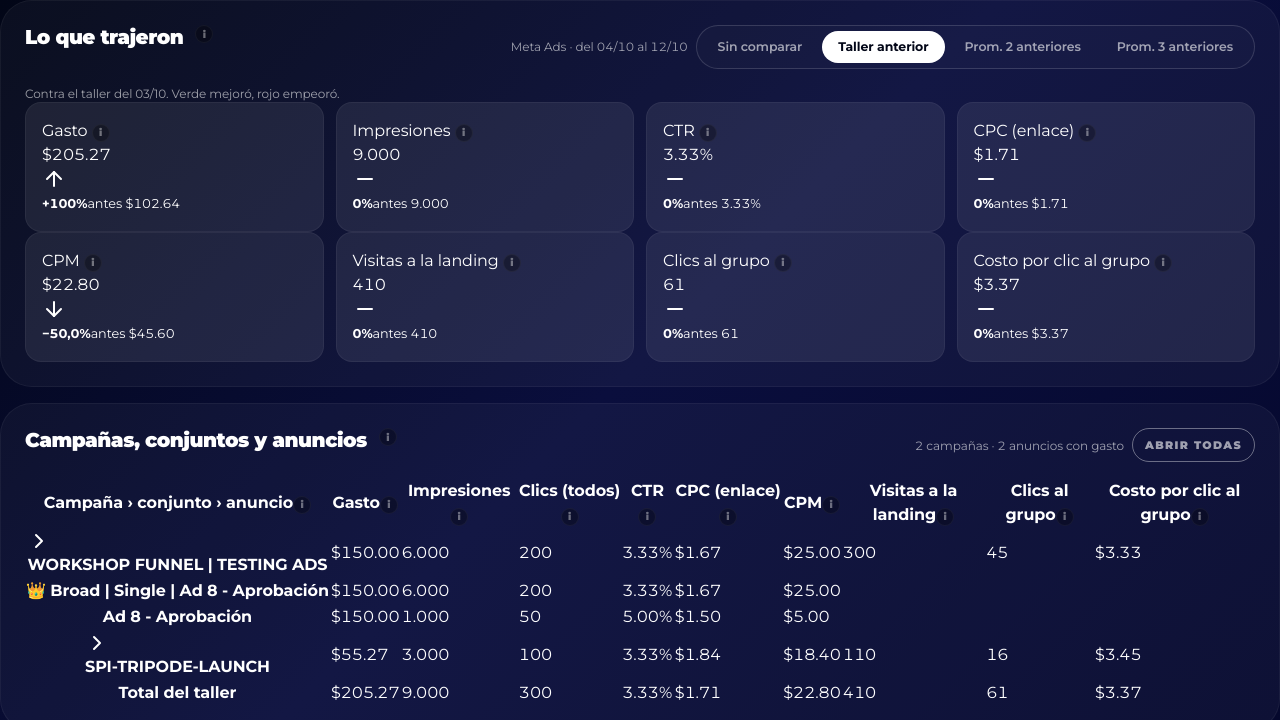
Test: Workshop › Talleres › Anuncios del taller › comparación contra los talleres anteriores › un costo que subió es para peor y lo que se queda igual no se pinta
expect the text "Ad 8 - Aprobación" is shown: met, box x1=103 y1=607 x2=252 y2=626
Step 1. Click the tab "Prom. 2 anteriores" → (1023, 47), box x1=948 y1=31 x2=1097 y2=63
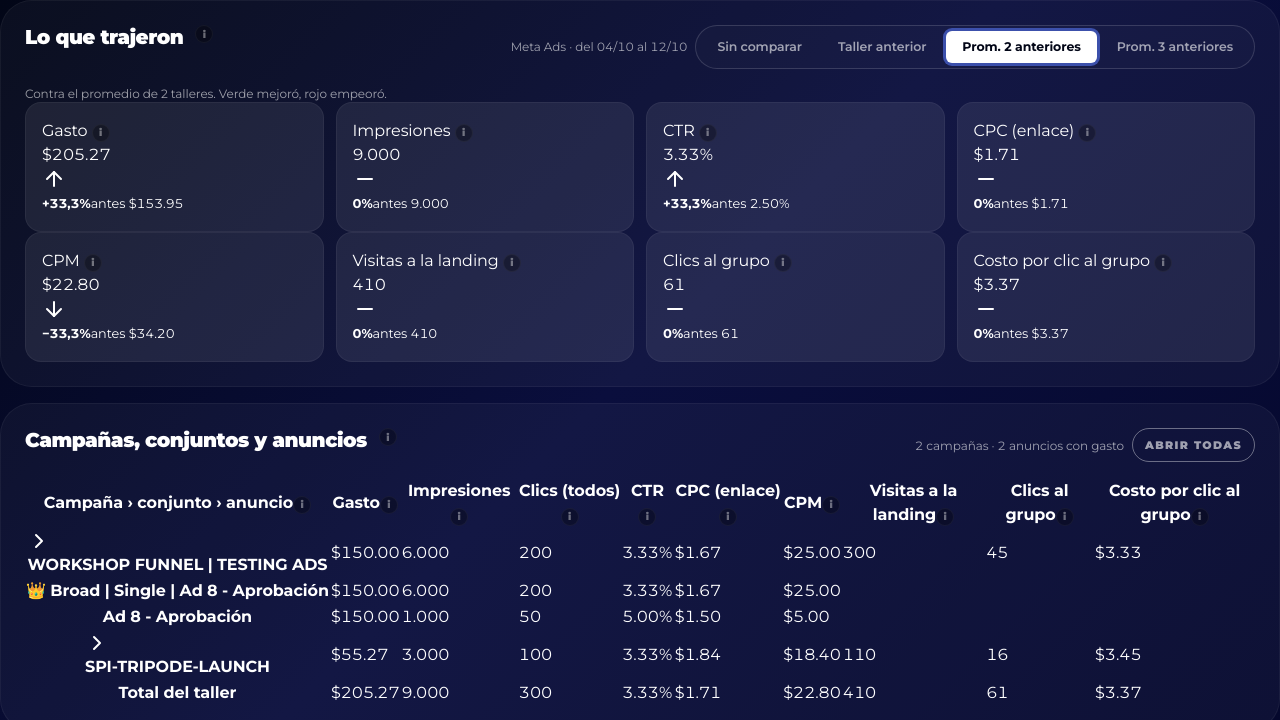
expect the text "−33,3%" is shown: met, box x1=42 y1=326 x2=91 y2=341
expect the element with class "wt-var--success" showing "+33,3%antes 2.50%" is shown: met, box x1=663 y1=167 x2=790 y2=211
expect the text "promedio de 2 talleres" is shown: met, box x1=25 y1=86 x2=387 y2=101
